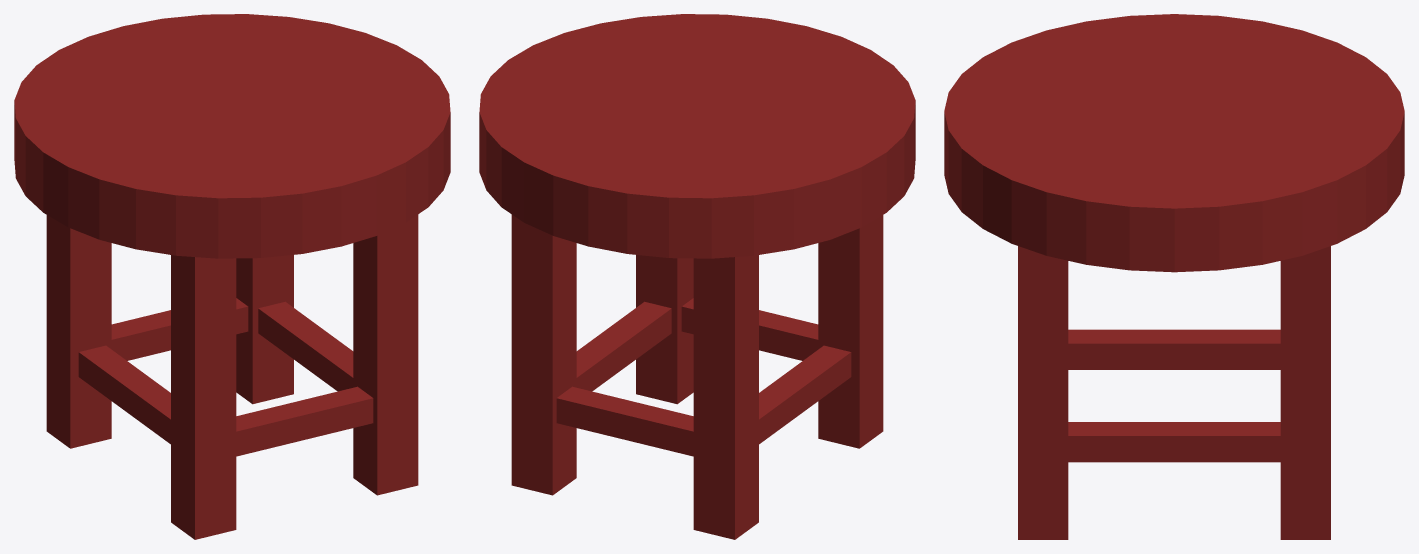
The model's file is GheQuay.fbx.
The picture shows the model from 3 angles, left to right: view 1: azimuth 30°, elevation 25°; view 2: azimuth 150°, elevation 25°; view 3: azimuth 270°, elevation 25°; orthographic projection. The views are drawn at different scales.
Visible parts, largest first — view 1: GheQuay; view 2: GheQuay; view 3: GheQuay.
Part boxes in pixels (x1=…): GheQuay: x1=14, y1=14, x2=450, y2=539; GheQuay: x1=479, y1=14, x2=915, y2=539; GheQuay: x1=944, y1=14, x2=1404, y2=539.
Bounding box in the file's own units: 28.15 × 25.03 × 28.15.
